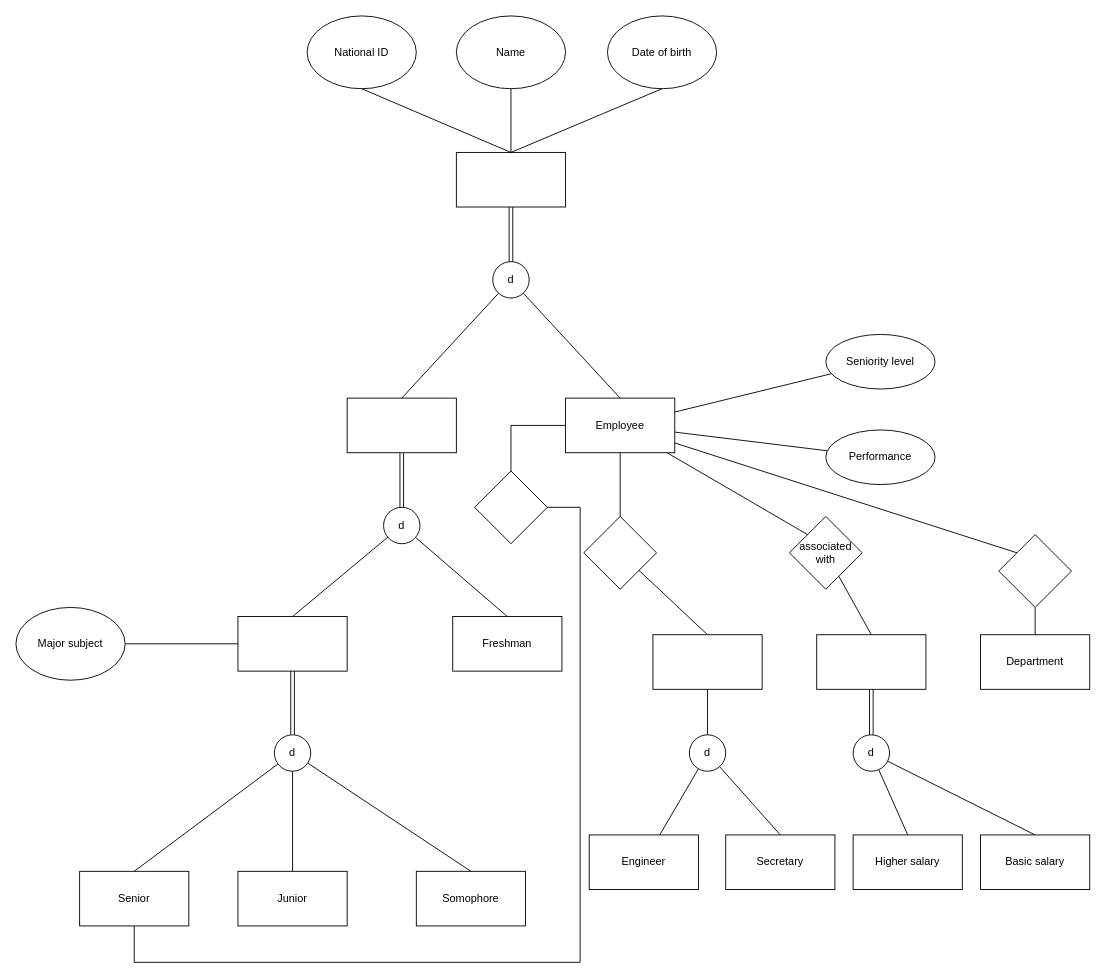
The diagram is 1106 pixels wide and 979 high, and some of its shapes have lost their labels. The shapes that lost their labels are listed below. From the top down, each one's centre as x and y in pixels, then its label:
At (x=510, y=179): "Person".
At (x=401, y=425): "Student".
At (x=510, y=507): "Advises".
At (x=620, y=552): "has a".
At (x=1035, y=570): "belongs to".
At (x=292, y=643): "StudentWithSubject".
At (x=707, y=661): "Company role".
At (x=871, y=661): "Salary level".
